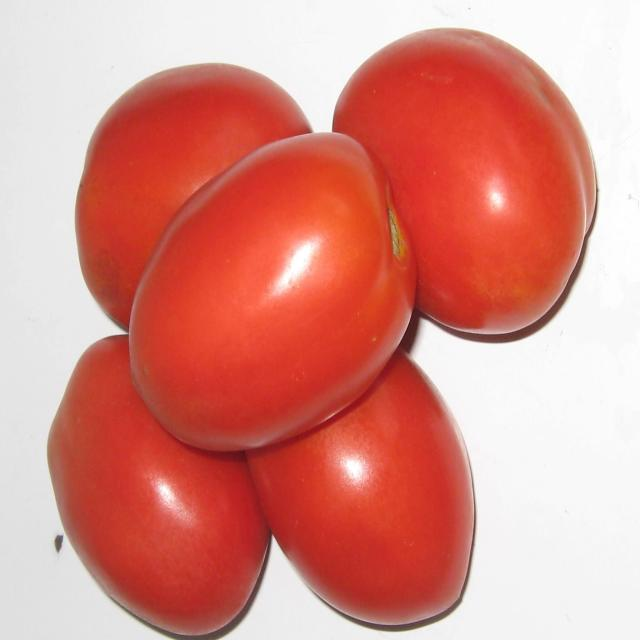kirmizi: (53, 25, 606, 633)
